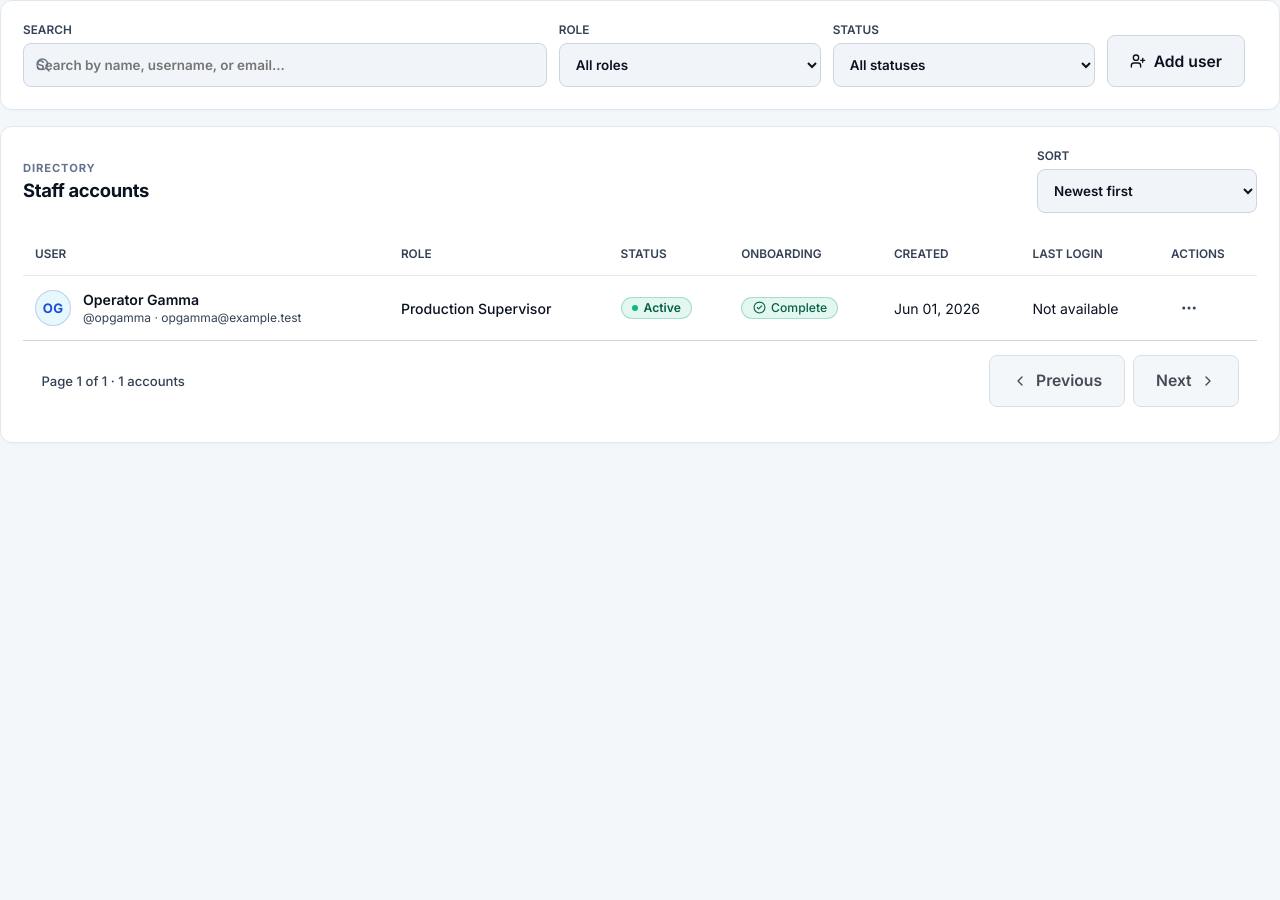
Test: removes an archived account optimistically and restores it when Undo is selected
This screenshot has width=1280, height=900.
Click the button named "actions for operator gamma" at (1189, 308), box x1=1171 y1=290 x2=1207 y2=326
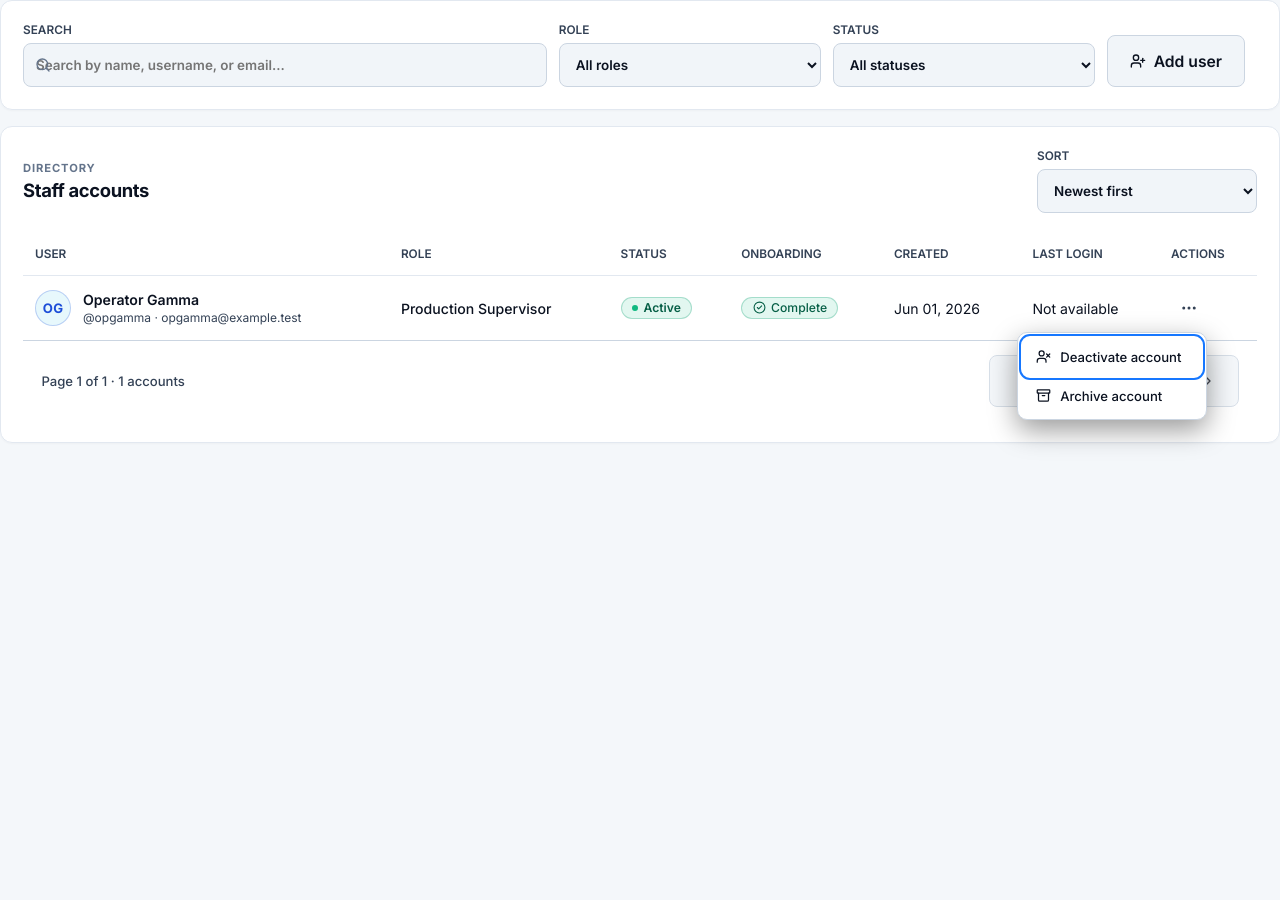
Expected: the button "Archive account" is shown
Click the button "Archive account" at (1112, 396), box x1=1024 y1=378 x2=1200 y2=414
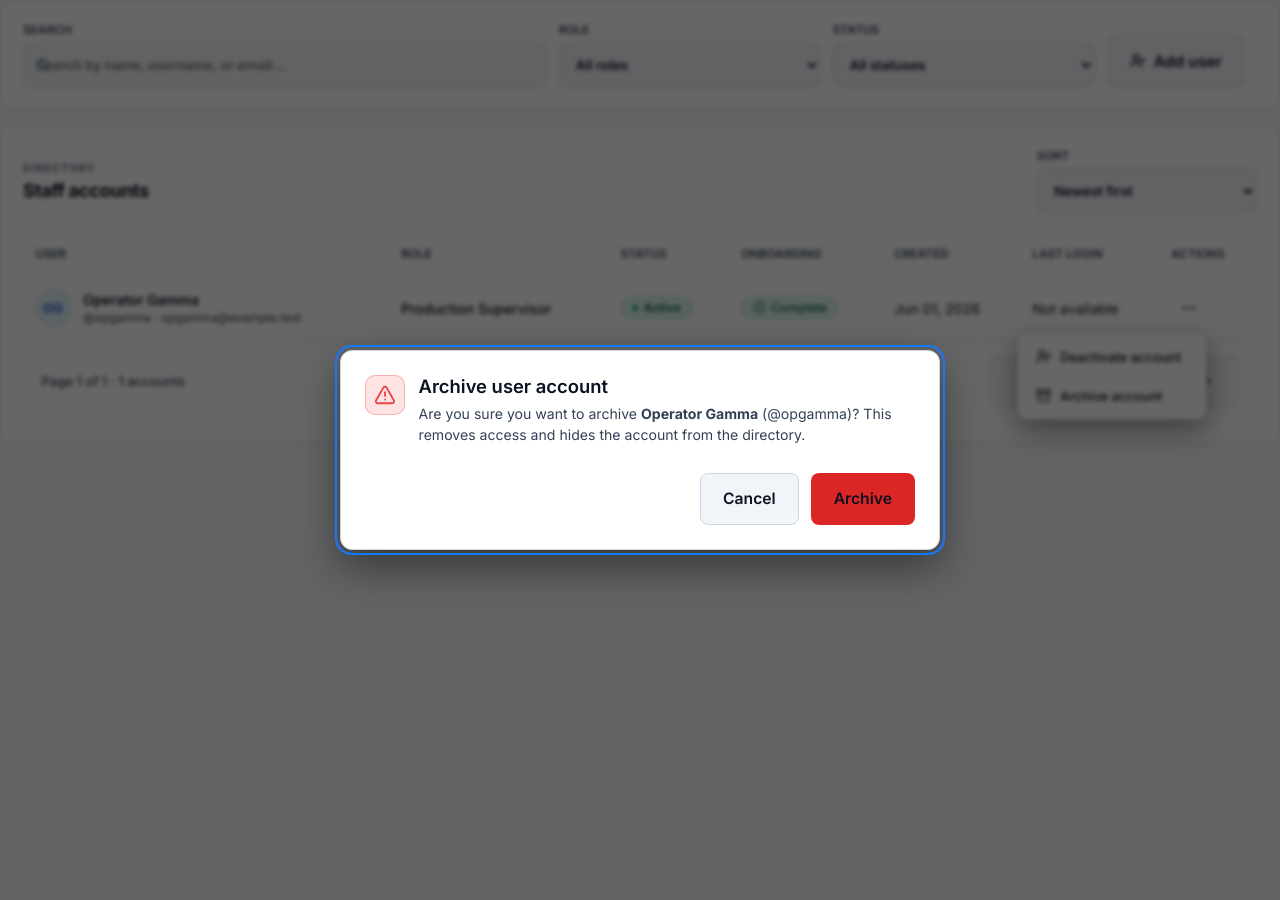
Click the button "Archive" at (863, 499), box x1=811 y1=473 x2=915 y2=525
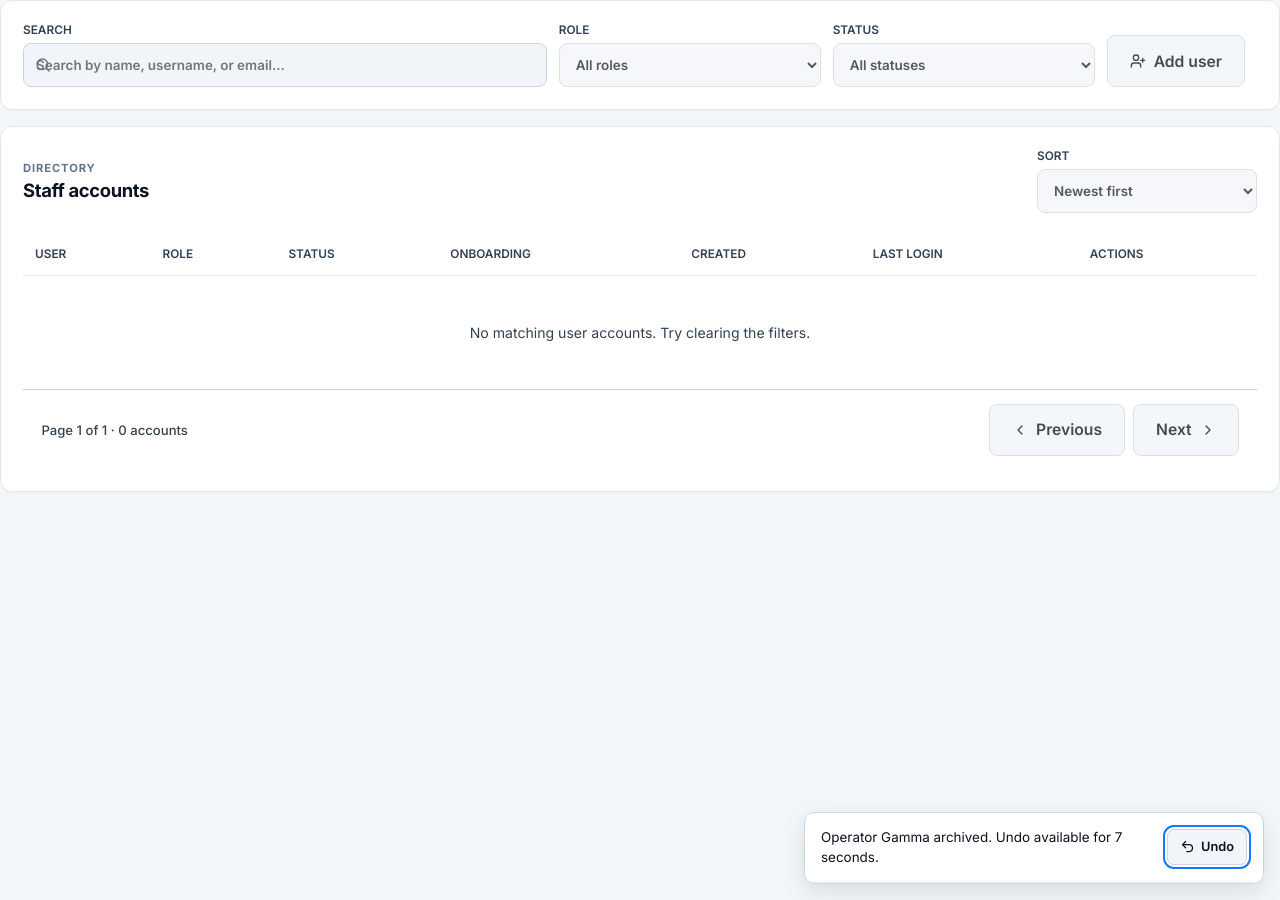
Expected: the message shows "Operator Gamma archived", x1=821 y1=829 x2=1122 y2=865
Click the button with aria-label "undo archive for operator gamma" at (1207, 847), box x1=1167 y1=829 x2=1247 y2=865
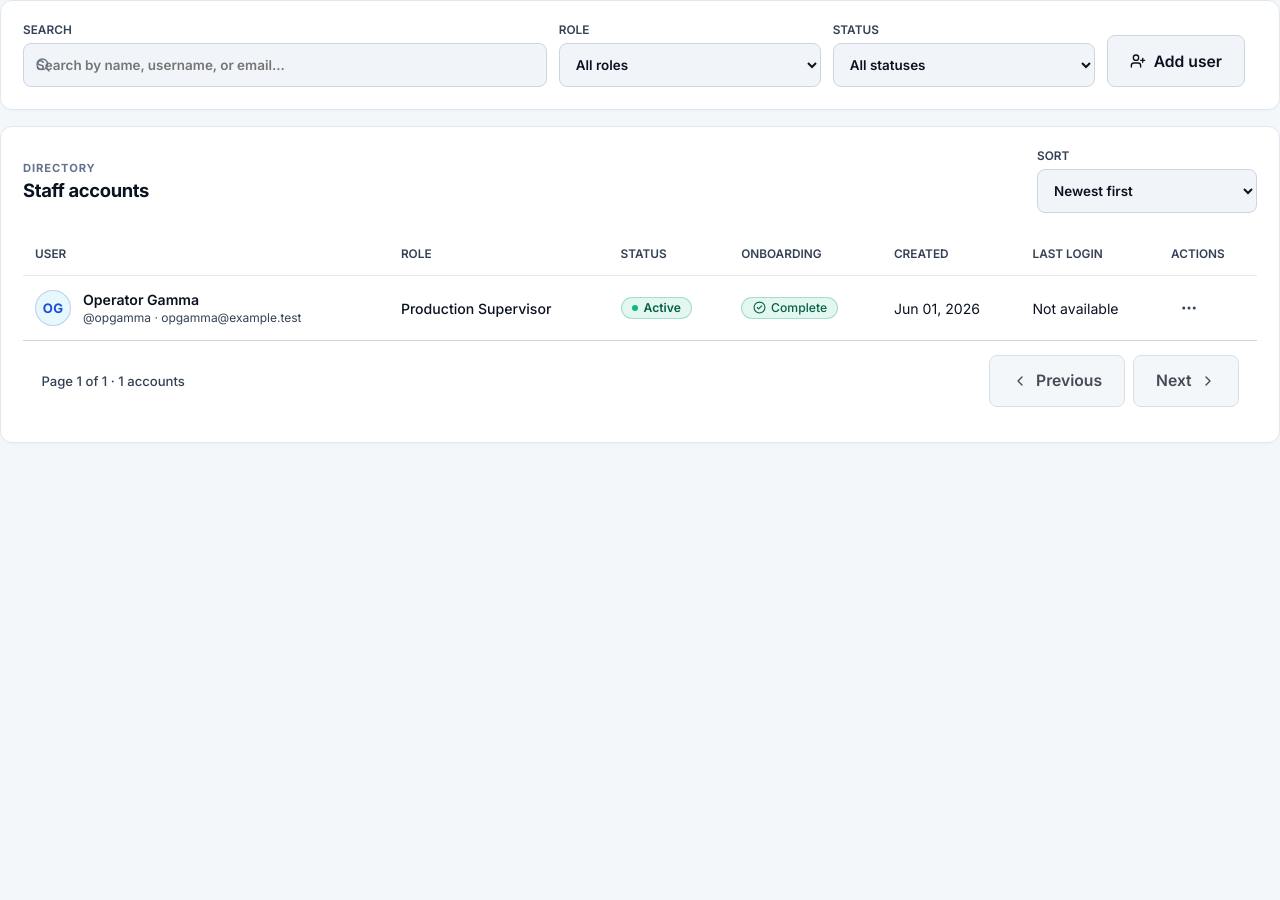
Expected: the button named "actions for operator gamma" is shown, x1=1171 y1=290 x2=1207 y2=326
